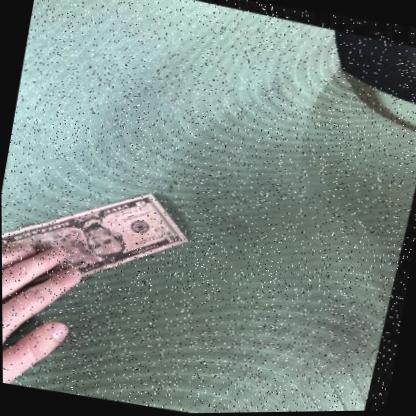five-front: (1, 191, 191, 298)
